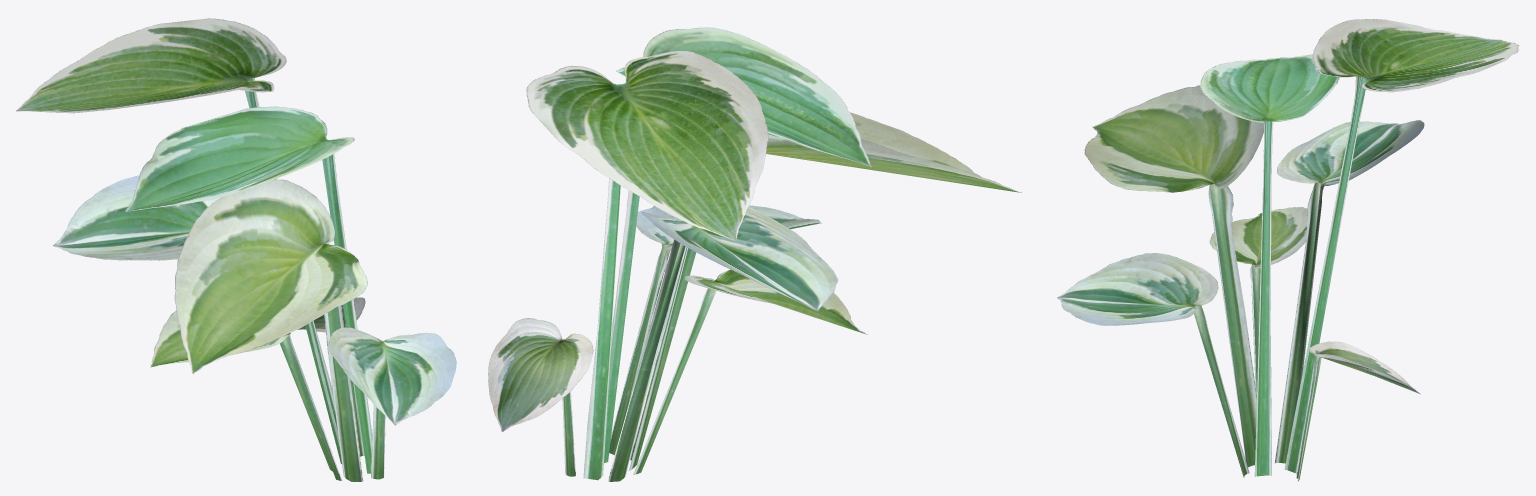
File: plant_small_wg_00_line_filler_04.fbx
The picture shows the model from 3 angles, left to right: view 1: azimuth 30°, elevation 25°; view 2: azimuth 150°, elevation 25°; view 3: azimuth 270°, elevation 25°; orthographic projection. The views are drawn at different scales.
Visible parts, largest first — view 1: plant_small_wg_00_line_filler_04; view 2: plant_small_wg_00_line_filler_04; view 3: plant_small_wg_00_line_filler_04.
Part boxes in pixels (box(x1,y1,x2,y2)): plant_small_wg_00_line_filler_04: box(16, 18, 456, 481); plant_small_wg_00_line_filler_04: box(488, 27, 1021, 481); plant_small_wg_00_line_filler_04: box(1057, 19, 1519, 481).
Size of the model in its own units: 30.08 by 37.14 by 40.71.
1 material, 1 textured.
